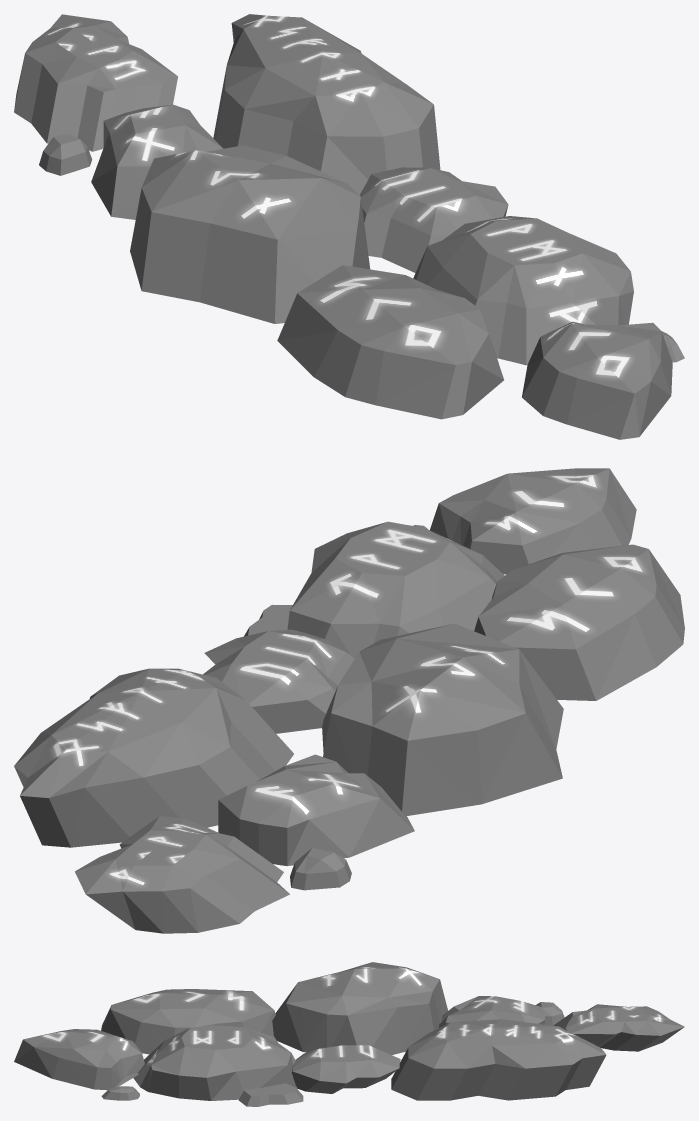
File: MessageSign.obj
3 views of the same model, one above another, from view 1: azimuth 30°, elevation 25°; view 2: azimuth 150°, elevation 25°; view 3: azimuth 270°, elevation 25° (orthographic). The views are drawn at different scales.
Parts seen in each view (by area): view 1: Stone_立方体.008; view 2: Stone_立方体.008; view 3: Stone_立方体.008.
Part boxes in pixels (x1,y1,x2,y2): Stone_立方体.008: (14, 14, 684, 439); Stone_立方体.008: (14, 468, 684, 933); Stone_立方体.008: (14, 962, 684, 1106).
Size of the model in its own units: 1.41 by 0.3339 by 3.6.
1 material, 1 textured.
